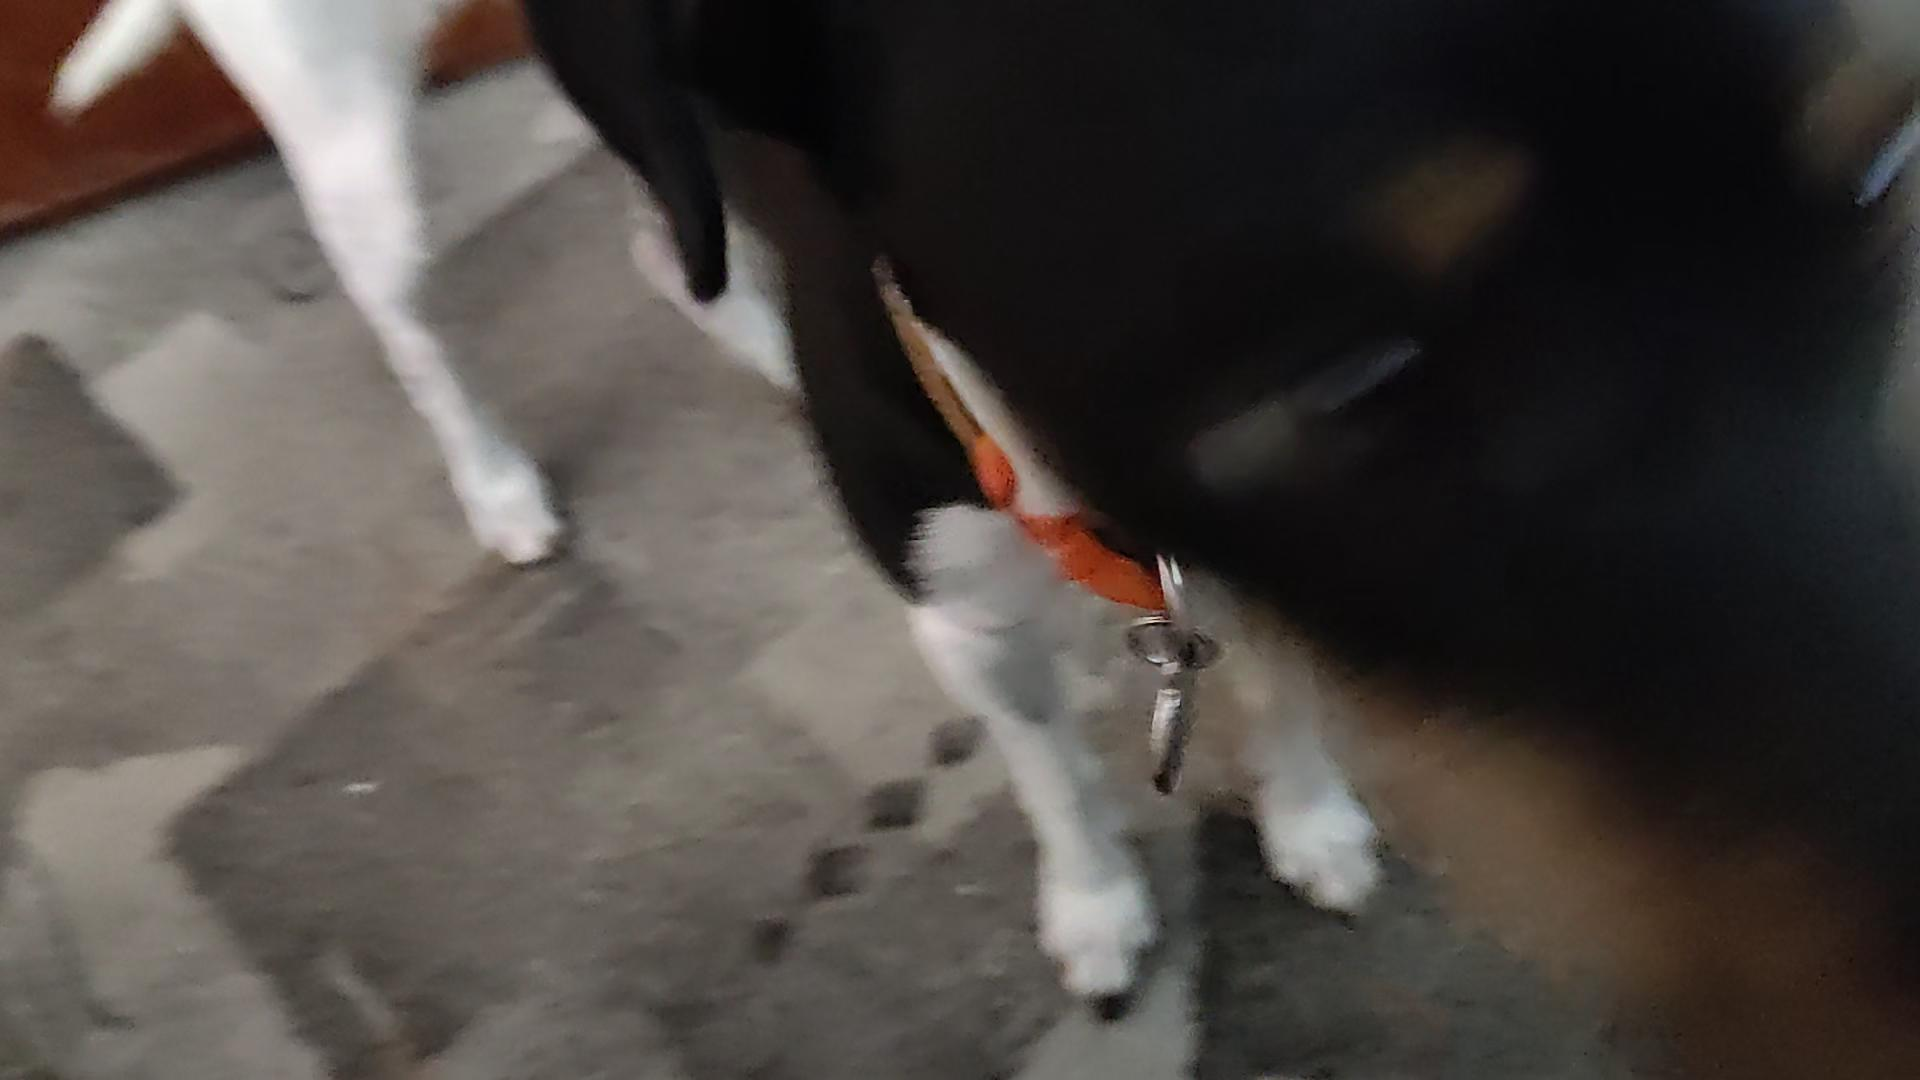Dog: (37, 0, 1919, 1079)
